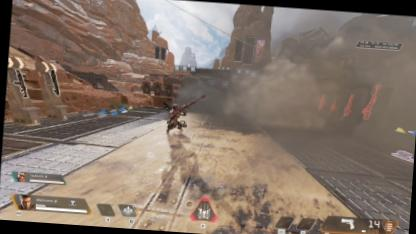Target: (162, 100, 186, 134)
